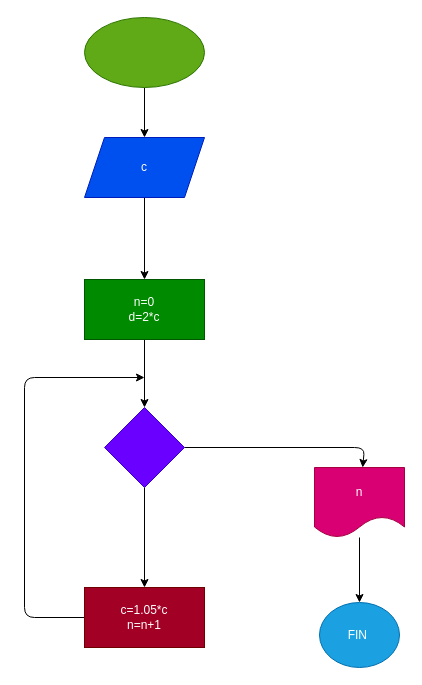
The diagram is 422 pixels wide and 685 high, and some of its shapes have lost their labels. The box of each missing label's shape, as (x1, y1, x2, y2) in pixels:
c<=d: (104, 406, 184, 488)
INICIO: (84, 16, 204, 88)
